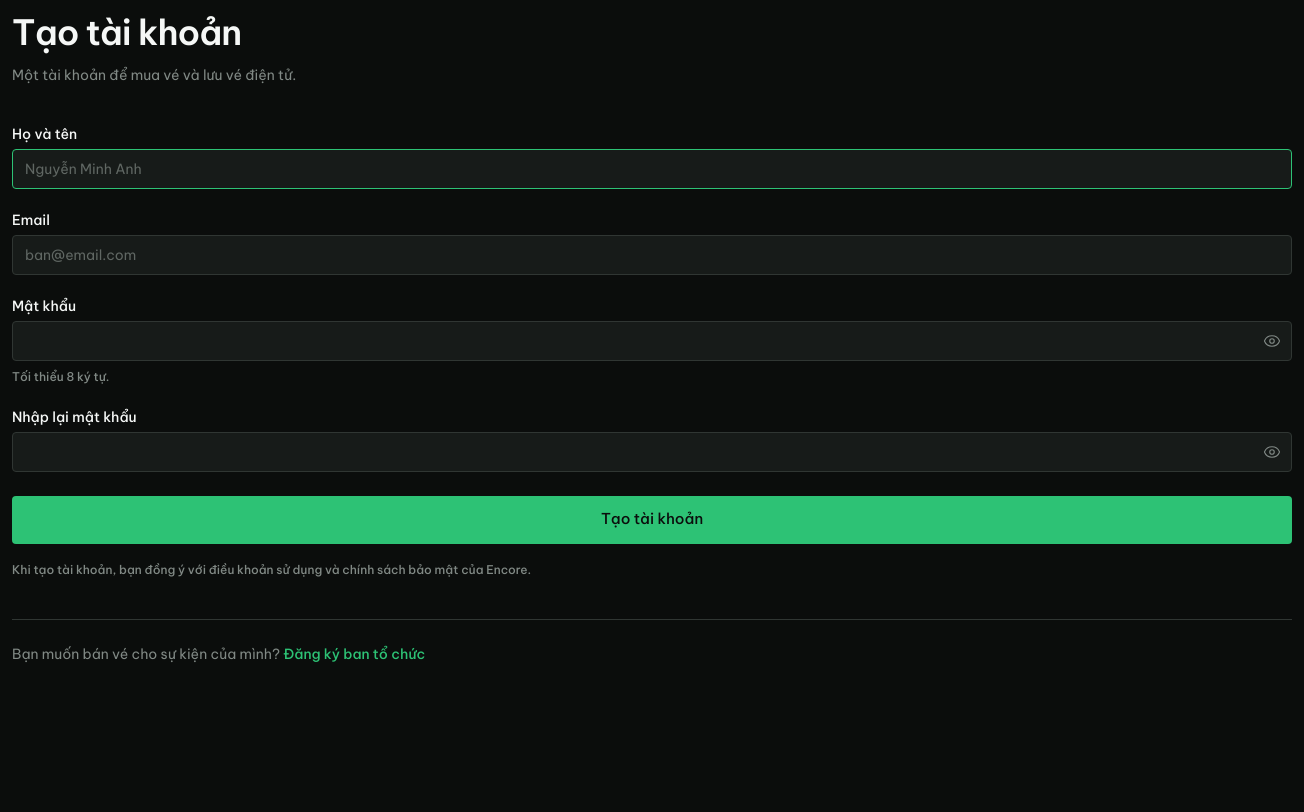
Test: RegisterPage › EMAIL_ALREADY_USED gắn vào ô email
The width and height of the screenshot is (1304, 812).
Type "Lê Thu Hà" into the field labelled "Họ và tên" at (652, 169), box [12,149,1292,189]
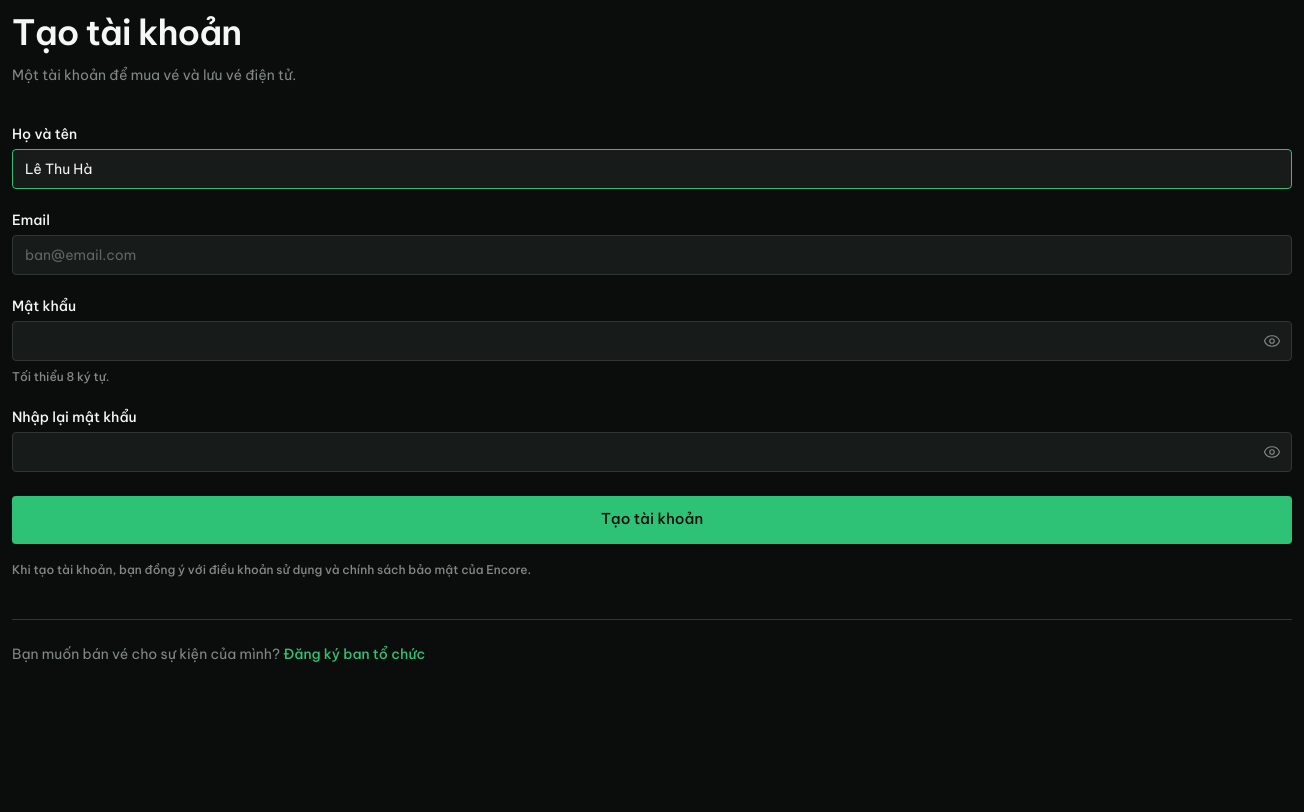
Type "a@example.com" into the field labelled "Email" at (652, 255), box [12,235,1292,275]
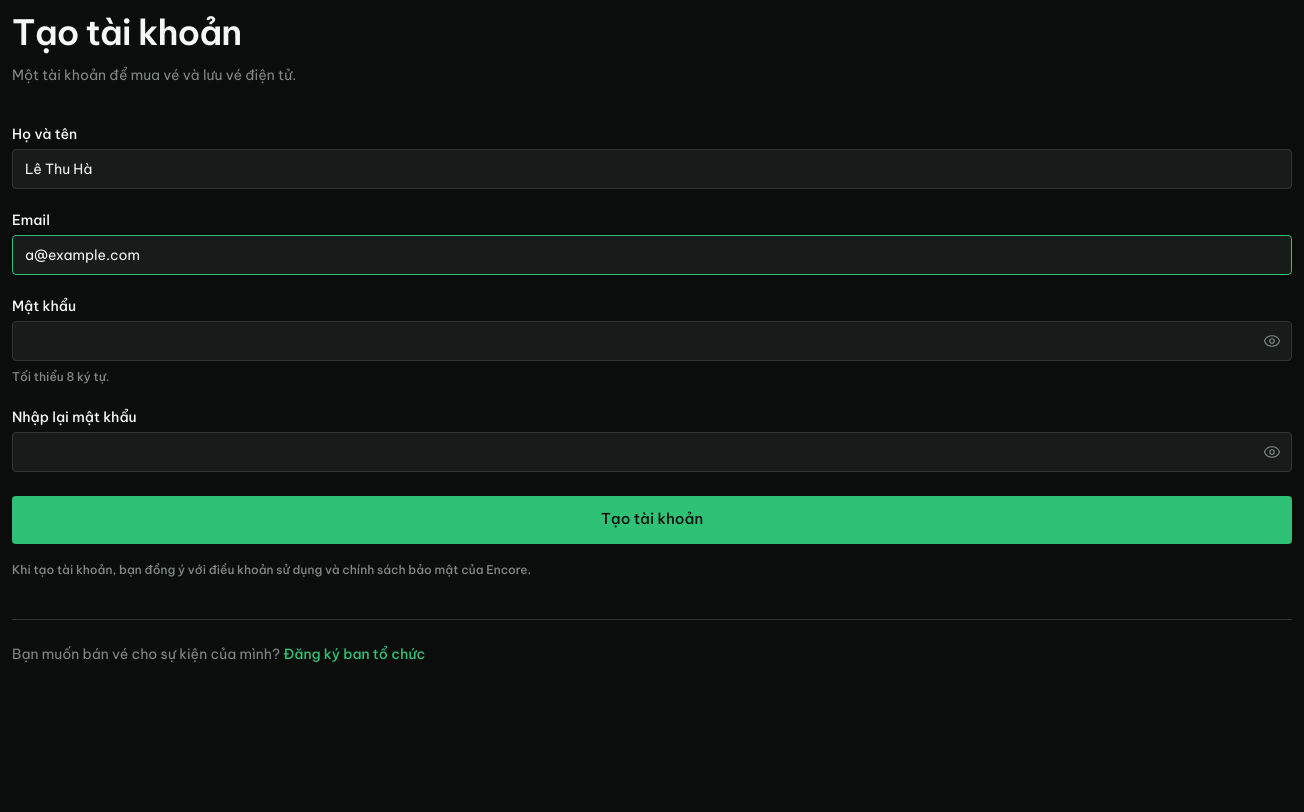
Type "matkhau123" into the password field labelled "Mật khẩu" at (652, 341), box [12,321,1292,361]
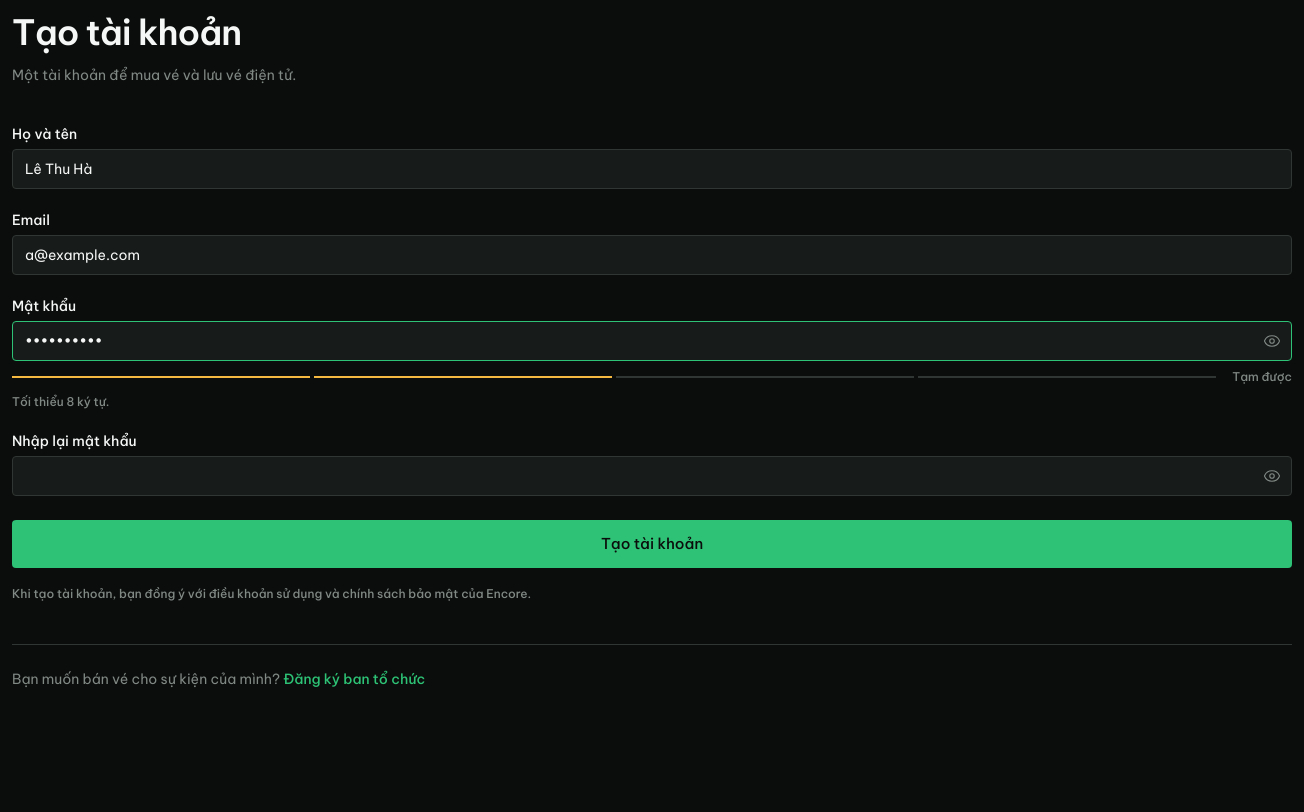
Type "matkhau123" into the password field labelled "Nhập lại mật khẩu" at (652, 476), box [12,456,1292,496]
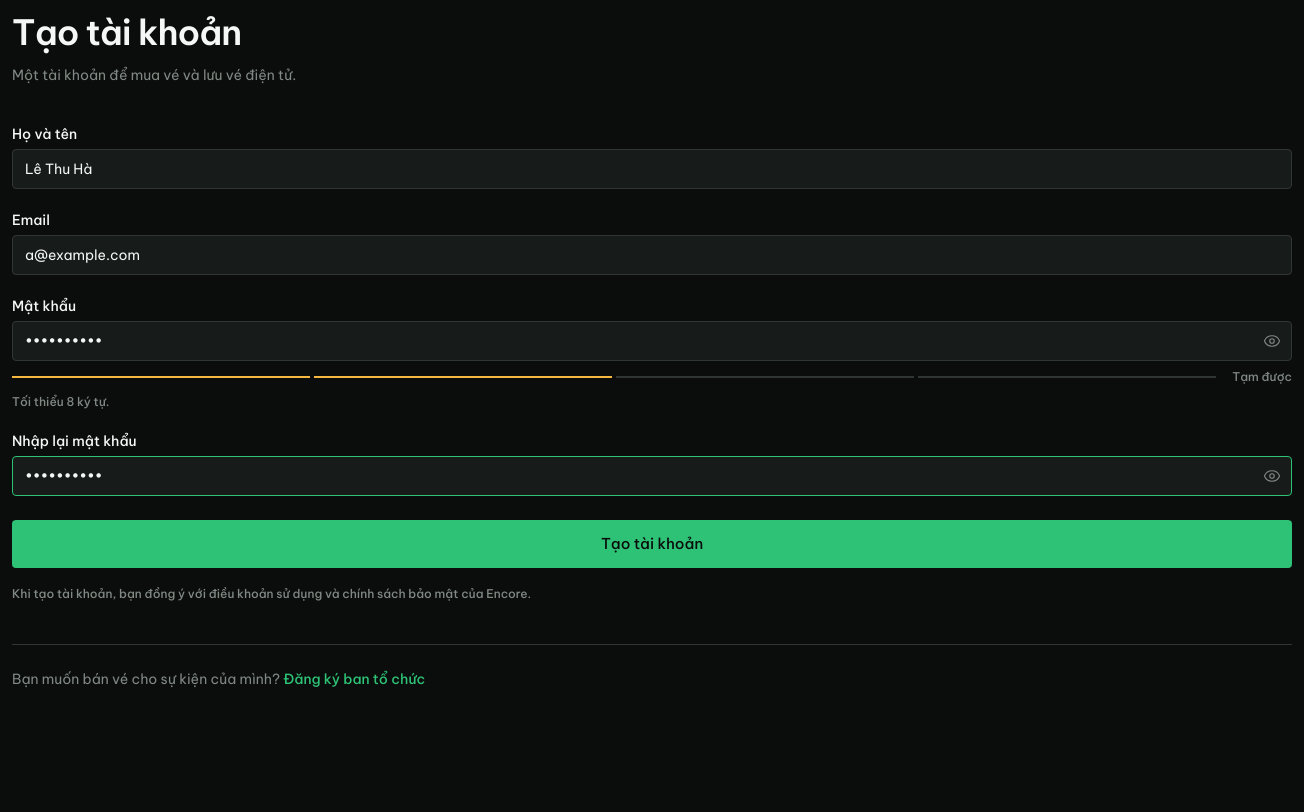
Click the button "Tạo tài khoản" at (652, 544), box [12,520,1292,568]
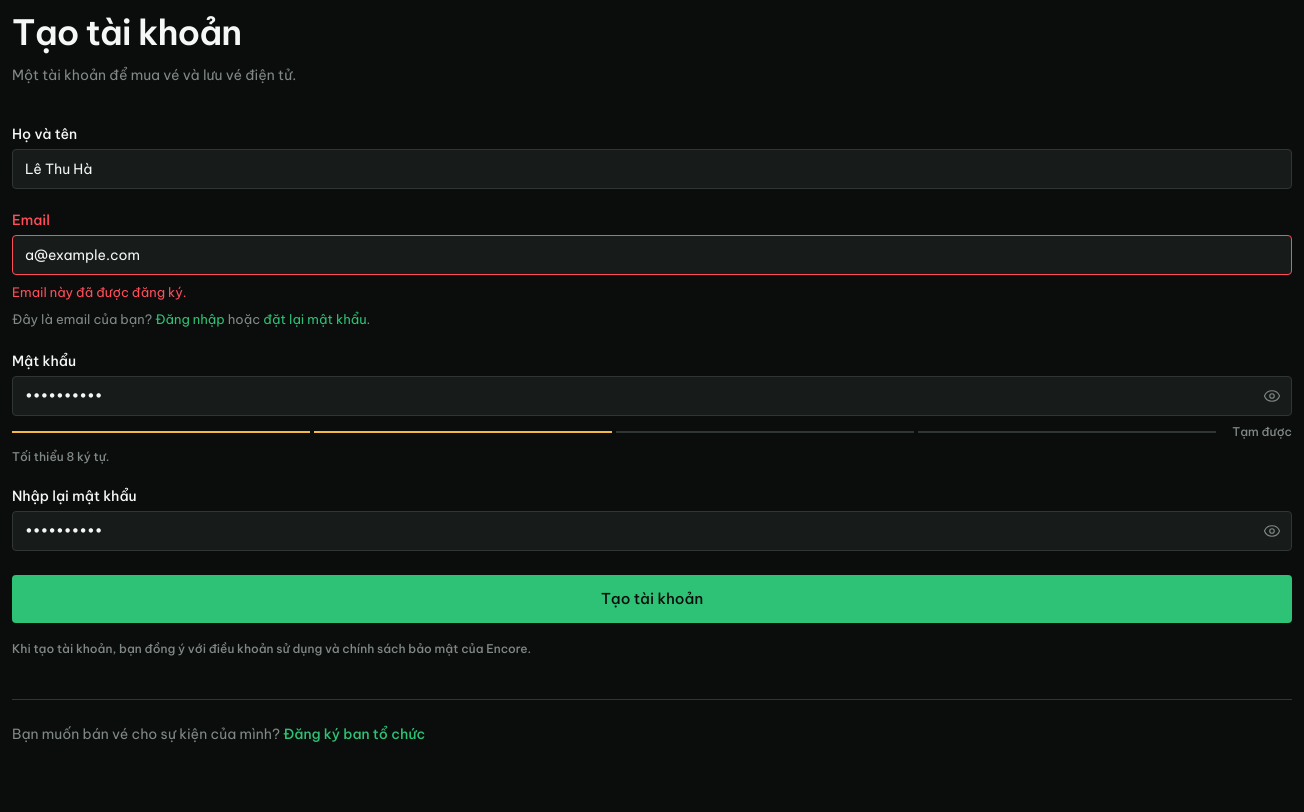
Expected: the text "Email này đã được đăng ký." is shown, [12,284,186,300]
